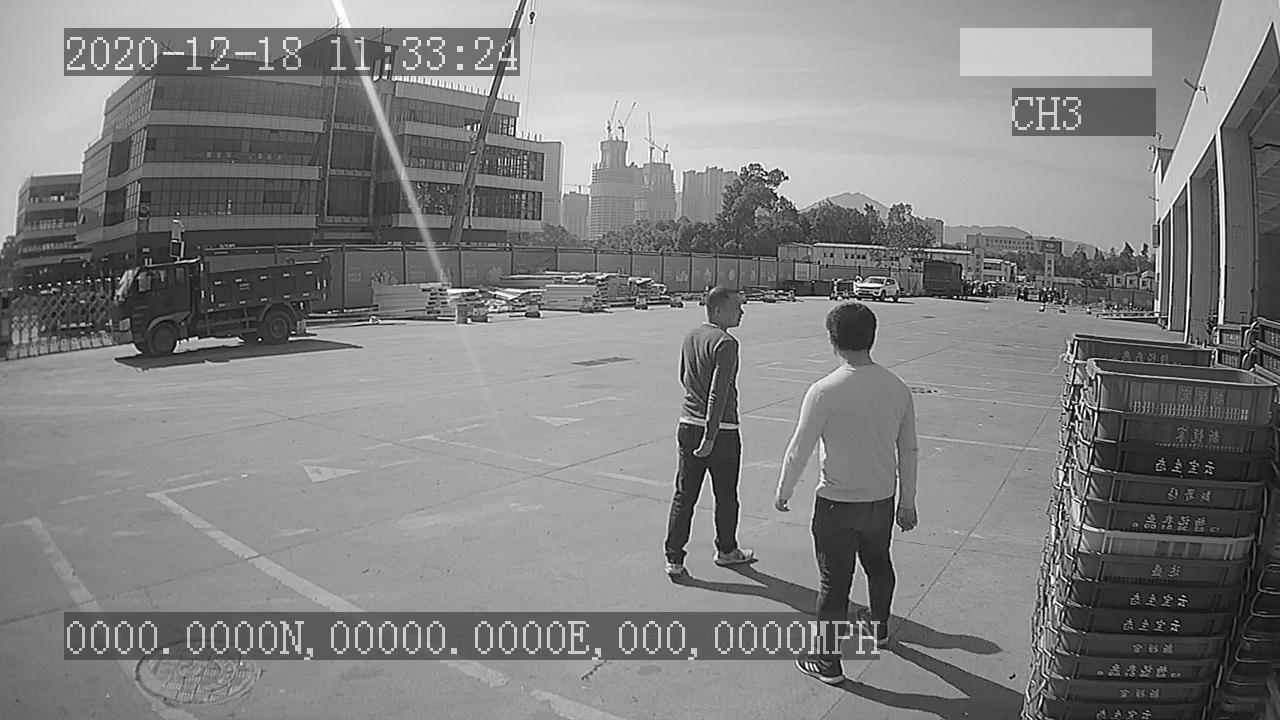person: (662, 282, 758, 576)
